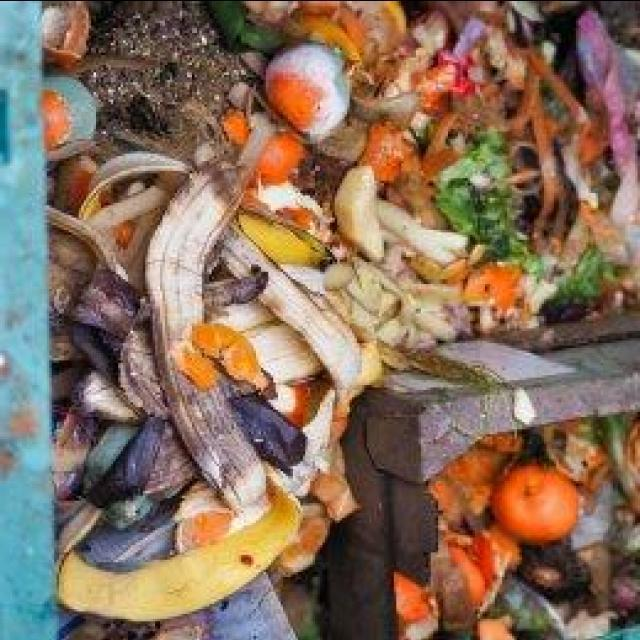Garbage: (2, 0, 640, 637)
